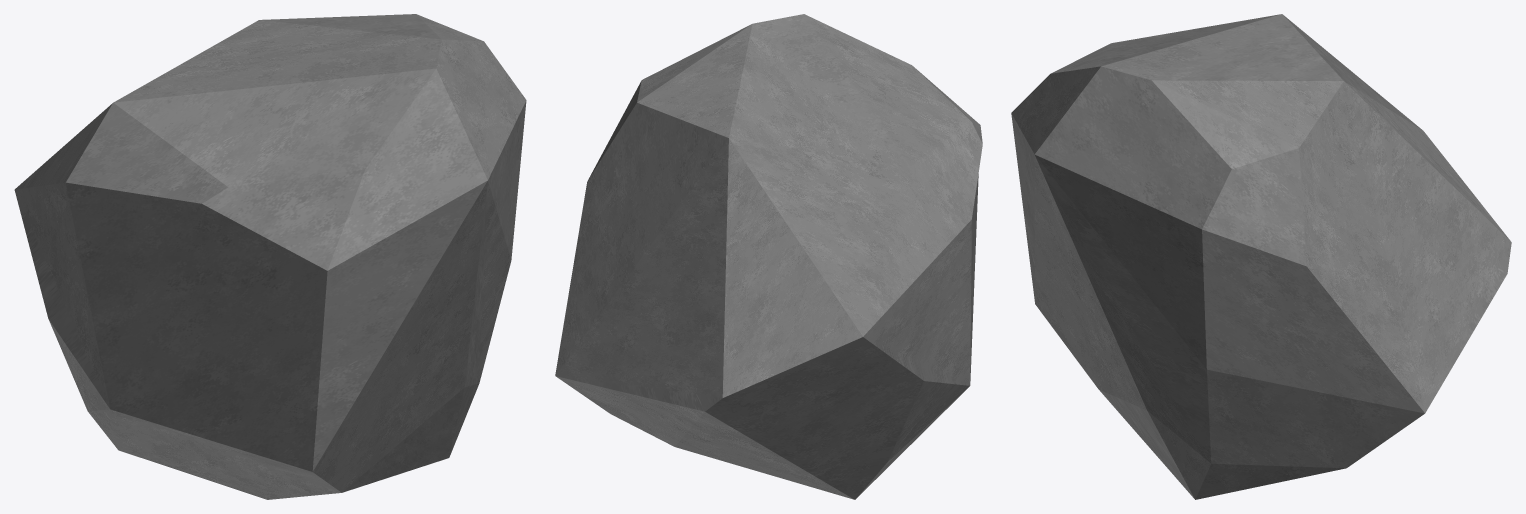
Rendered from Rock_8.glb.
3 views of the same model, side by side, from view 1: azimuth 30°, elevation 25°; view 2: azimuth 150°, elevation 25°; view 3: azimuth 270°, elevation 25° (orthographic). The views are drawn at different scales.
Parts seen in each view (by area): view 1: Sphere.018; view 2: Sphere.018; view 3: Sphere.018.
Boxes of the visible parts, x1,y1,x2,y2 form: Sphere.018: (14,14,526,499); Sphere.018: (555,14,982,499); Sphere.018: (1011,14,1511,499).
Bounding box in the file's own units: 1.56 × 1.57 × 1.72.
Materials: 1 (1 with a texture image).
